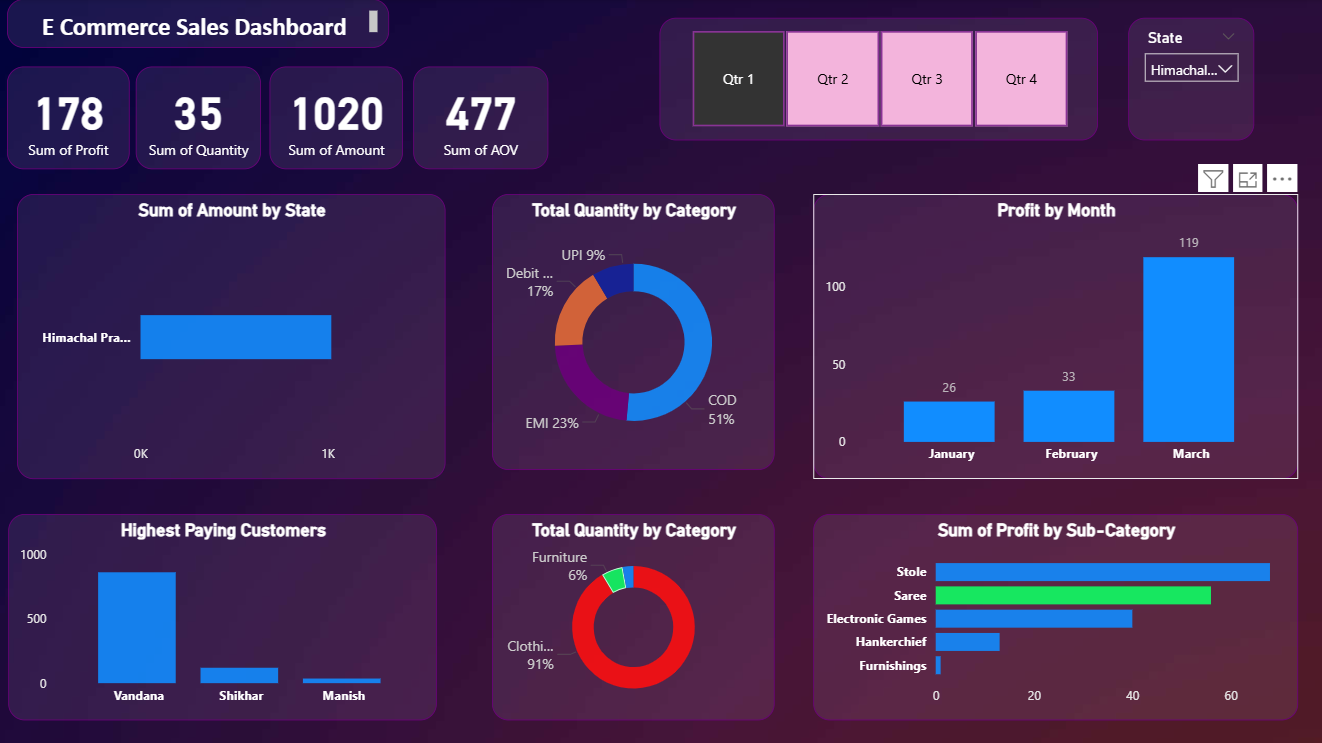

The page's visual inventory and layout, read from the dashboard file:
{"tool":"powerbi","page":{"name":"Page 1","canvas":[1280,720],"ordinal":0},"visuals":[{"type":"textbox","box":[10,0,369,47],"z":0},{"type":"columnChart","fields":{"Y":["Details.Profit"],"Category":["Orders.Order Date.Variation.Date Hierarchy.Month"]},"box":[787.8,188.2,468.1,275.1],"z":1000},{"type":"barChart","fields":{"Category":["Details.Sub-Category"],"Y":["Details.Profit"]},"box":[787.8,497.1,468.1,199.1],"z":2000},{"type":"donutChart","title":"Total Quantity by Category","fields":{"Category":["Details.Category"],"Y":["Details.Quantity"]},"box":[477.8,497.1,272.7,199.1],"z":3000},{"type":"donutChart","title":"Total Quantity by Category","fields":{"Category":["Details.PaymentMode"],"Y":["Details.Quantity"]},"box":[477.8,188.2,272.7,266.6],"z":4000},{"type":"card","fields":{"Values":["Details.Amount"]},"box":[263,65,129,99],"z":5000},{"type":"card","fields":{"Values":["Details.Profit"]},"box":[10,65,118,99],"z":6000},{"type":"card","fields":{"Values":["Details.Quantity"]},"box":[134,65,121,99],"z":7000},{"type":"card","fields":{"Values":["Details.AOV"]},"box":[402,65,130,99],"z":8000},{"type":"columnChart","title":"Highest Paying Customers","fields":{"Category":["Orders.CustomerName"],"Y":["Details.Amount"]},"box":[10.9,497.1,413.8,199.1],"z":9000},{"type":"barChart","fields":{"Y":["Details.Amount"],"Category":["Orders.State"]},"box":[19.3,188.2,413.8,275.1],"z":10000},{"type":"slicer","fields":{"Values":["Orders.Order Date.Variation.Date Hierarchy.Quarter"]},"box":[639.4,18.1,423.5,118.2],"z":11000},{"type":"slicer","fields":{"Values":["Orders.State"]},"box":[1091.8,18.1,121.9,118.2],"z":12000}]}

Visuals, with their boxes in screenshot pixels (x1, y1, x2, y2), scaled from the page's 1280x720 canvas onto the 1322x743 screenshot:
textbox: x1=10, y1=0, x2=391, y2=49
columnChart - Details.Profit x Orders.Order Date.Variation.Date Hierarchy.Month: x1=814, y1=194, x2=1297, y2=478
barChart - Details.Sub-Category x Details.Profit: x1=814, y1=513, x2=1297, y2=718
"Total Quantity by Category" donutChart: x1=493, y1=513, x2=775, y2=718
"Total Quantity by Category" donutChart: x1=493, y1=194, x2=775, y2=469
card - Details.Amount: x1=272, y1=67, x2=405, y2=169
card - Details.Profit: x1=10, y1=67, x2=132, y2=169
card - Details.Quantity: x1=138, y1=67, x2=263, y2=169
card - Details.AOV: x1=415, y1=67, x2=549, y2=169
"Highest Paying Customers" columnChart: x1=11, y1=513, x2=439, y2=718
barChart - Details.Amount x Orders.State: x1=20, y1=194, x2=447, y2=478
slicer - Orders.Order Date.Variation.Date Hierarchy.Quarter: x1=660, y1=19, x2=1098, y2=141
slicer - Orders.State: x1=1128, y1=19, x2=1254, y2=141
